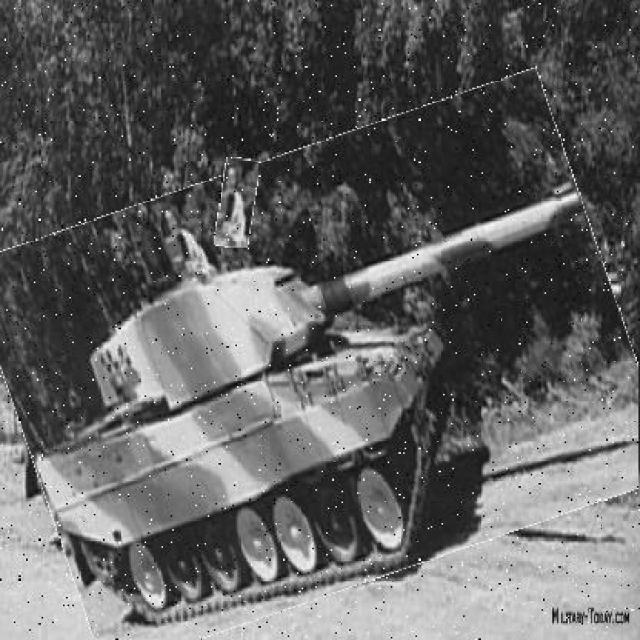Person: (218, 160, 258, 249)
Tank: (1, 111, 639, 628)
